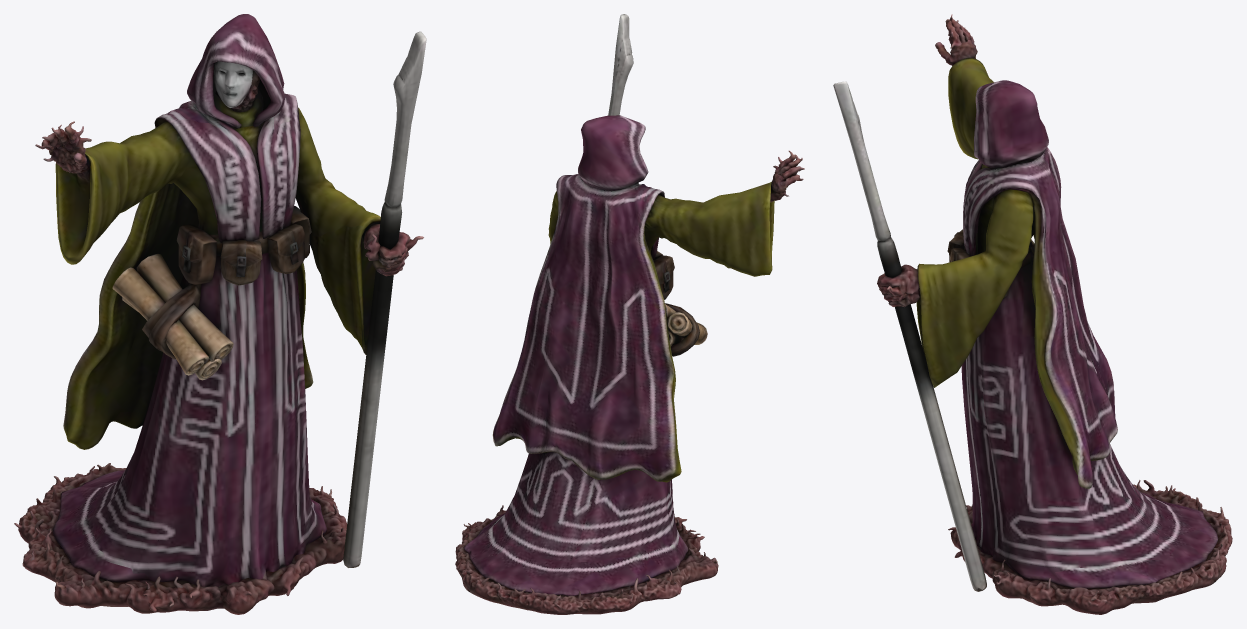
File: MZ4250 - Starspawn Larva Mage.glb
The picture shows the model from 3 angles, left to right: view 1: azimuth 30°, elevation 25°; view 2: azimuth 150°, elevation 25°; view 3: azimuth 270°, elevation 25°; orthographic projection. The views are drawn at different scales.
Parts seen in each view (by area): view 1: Cube.001; view 2: Cube.001; view 3: Cube.001.
Part boxes in pixels (x1,y1,x2,y2): Cube.001: (14,14,426,614); Cube.001: (455,14,804,614); Cube.001: (833,14,1232,614).
Bounding box in the file's own units: 0.7179 × 1.12 × 0.7861.
1 material, 1 textured.
